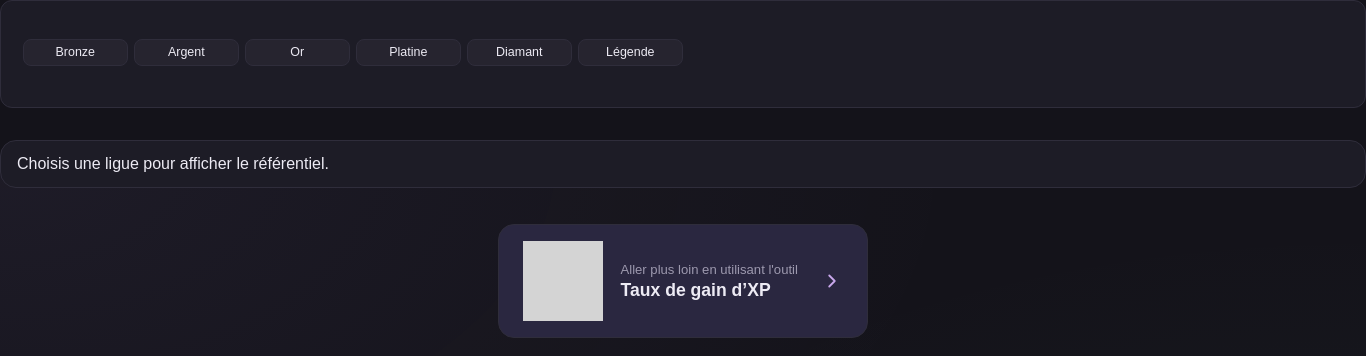
Test: LevelUpReference › Bloc98/A: drops a league from that list as soon as its values are cleared
Click the button "Légende". click: (630, 52)
box: [578,39,683,66]
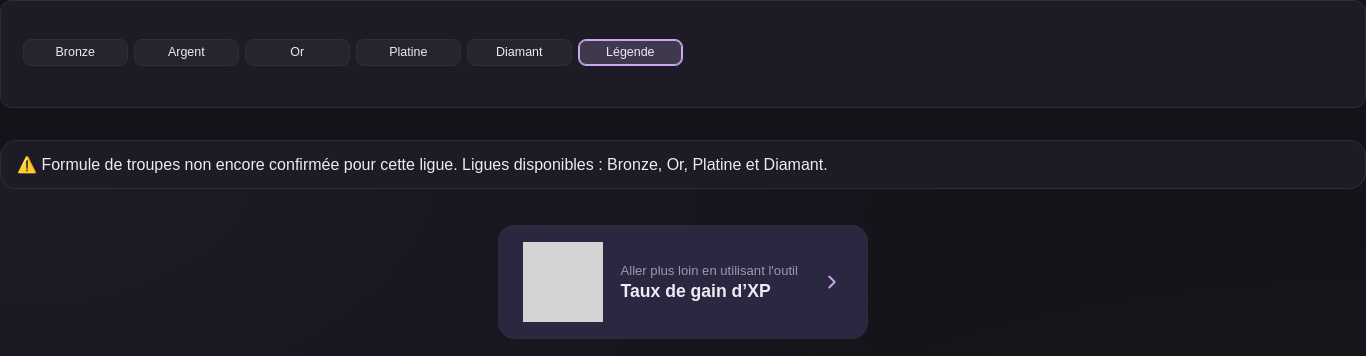
Expected: the message shows "Ligues disponibles : Bronze, Or, Platine et Diamant.", [17,156,828,173]
